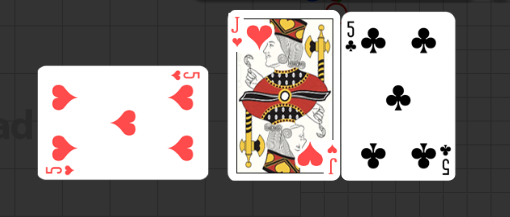5C: (344, 19, 359, 54)
5H: (44, 163, 76, 176), (169, 69, 201, 82)
